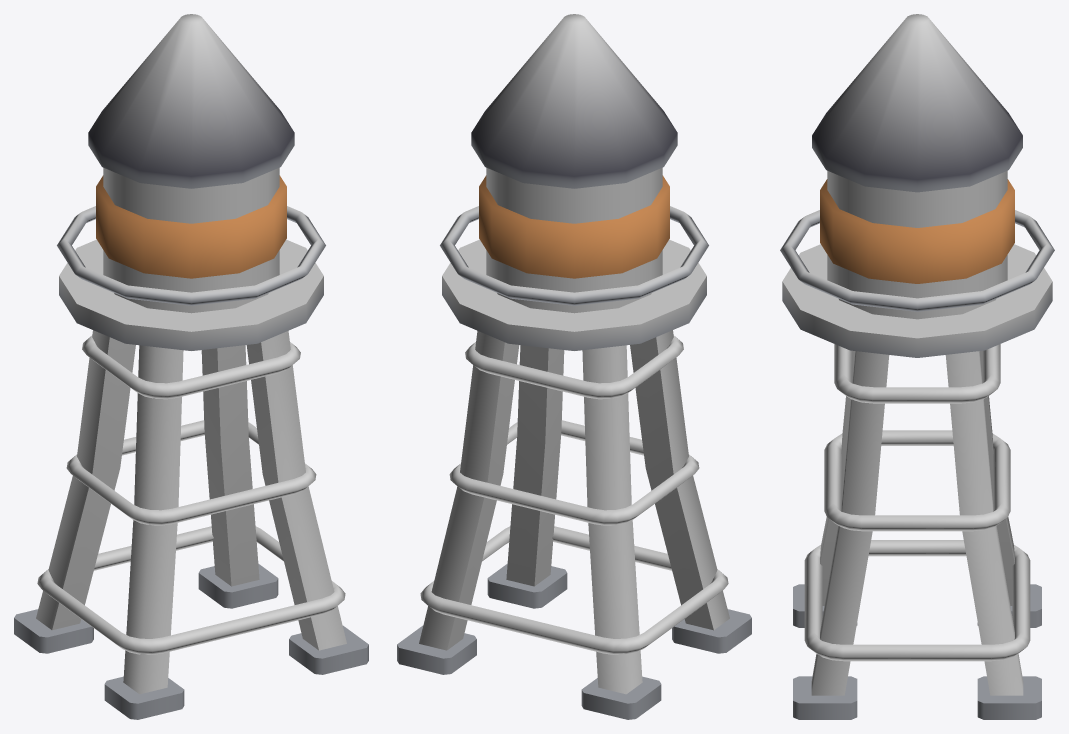
File: water-tower.glb
The picture shows the model from 3 angles, left to right: view 1: azimuth 30°, elevation 25°; view 2: azimuth 150°, elevation 25°; view 3: azimuth 270°, elevation 25°; orthographic projection. The views are drawn at different scales.
Parts seen in each view (by area): view 1: water-tower; view 2: water-tower; view 3: water-tower.
Boxes of the visible parts, box(x1,y1,x2,y2) form: water-tower: box(14, 14, 368, 719); water-tower: box(397, 14, 751, 719); water-tower: box(780, 14, 1054, 719).
Size of the model in its own units: 0.5965 by 1.5 by 0.5822.
